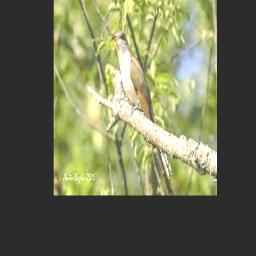Cuckoo: (112, 31, 172, 181)
